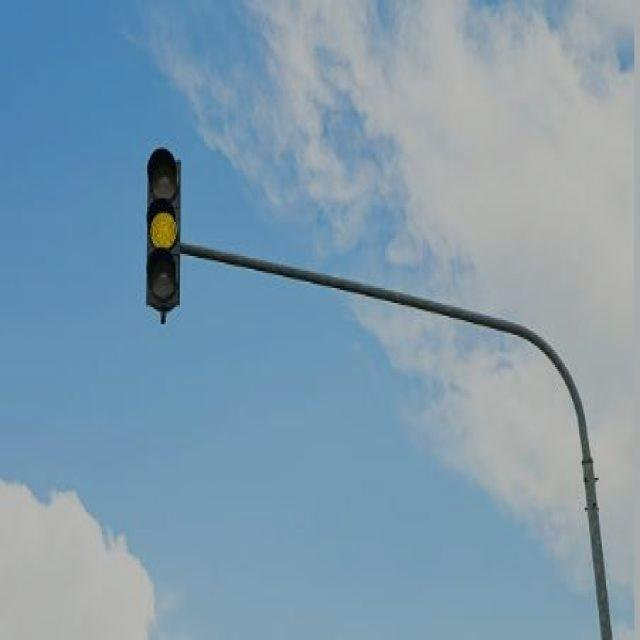Yellow: (148, 152, 180, 305)
